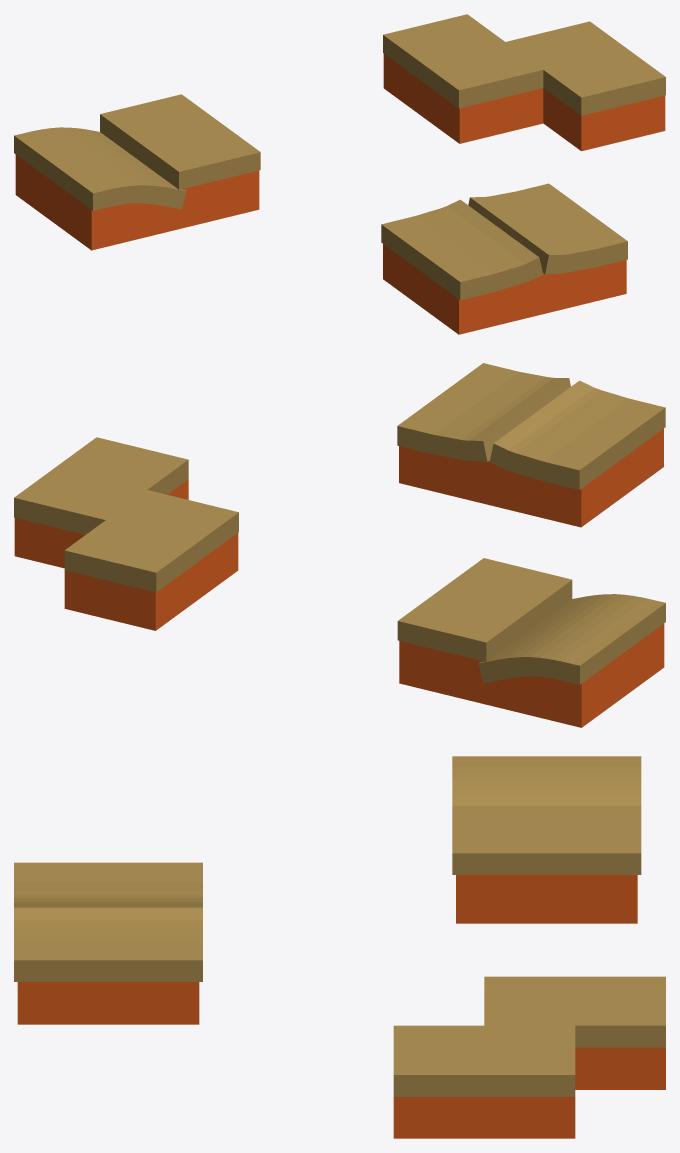
The model's file is Plate_motions.gltf.
3 views of the same model, one above another, from view 1: azimuth 30°, elevation 25°; view 2: azimuth 150°, elevation 25°; view 3: azimuth 270°, elevation 25° (orthographic). The views are drawn at different scales.
Parts seen in each view (by area): view 1: transformni.001, konvergentní.001, devergentni.001, transformni, konvergentní, devergentni; view 2: konvergentní.001, devergentni.001, transformni.001, konvergentní, devergentni, transformni; view 3: transformni.001, devergentni.001, konvergentní.001, transformni, konvergentní, devergentni.
Part boxes in pixels (<box>): transformni.001: <box>383,14,665,115</box>; konvergentní.001: <box>14,94,260,210</box>; devergentni.001: <box>381,183,627,300</box>; transformni: <box>383,54,665,151</box>; konvergentní: <box>15,154,259,250</box>; devergentni: <box>383,244,626,334</box>; konvergentní.001: <box>397,558,665,684</box>; devergentni.001: <box>397,363,665,489</box>; transformni.001: <box>14,437,238,592</box>; konvergentní: <box>399,623,664,727</box>; devergentni: <box>399,428,663,527</box>; transformni: <box>14,479,238,630</box>; transformni.001: <box>393,976,665,1096</box>; devergentni.001: <box>14,862,202,981</box>; konvergentní.001: <box>452,756,641,874</box>; transformni: <box>393,1047,665,1138</box>; konvergentní: <box>456,875,637,923</box>; devergentni: <box>17,982,199,1024</box>.
Bounding box in the file's own units: 20.82 × 2.33 × 17.94.
